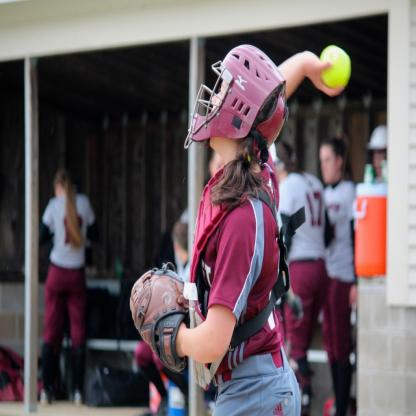Helmet: (190, 46, 299, 166)
